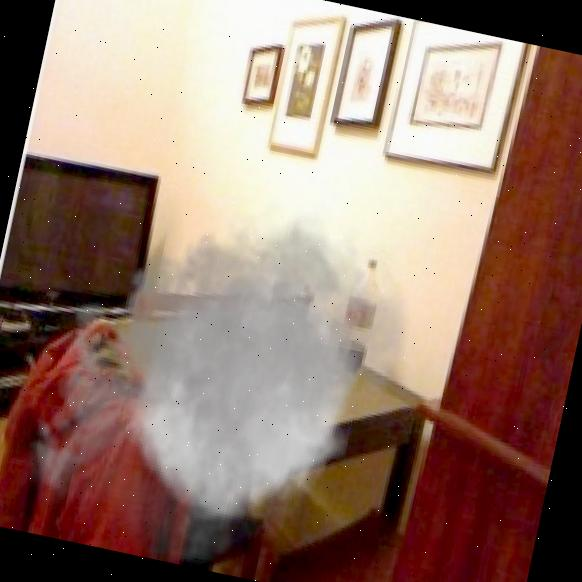smoke: (6, 152, 445, 582)
